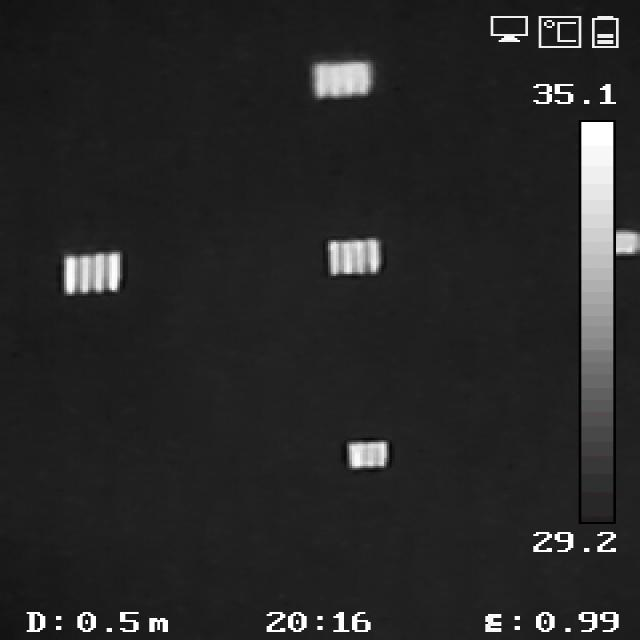Distinguishable 4-bar target: (60, 255, 124, 293), (331, 240, 385, 275)
threshold 4-bar target: (314, 61, 370, 95), (353, 443, 388, 467)
